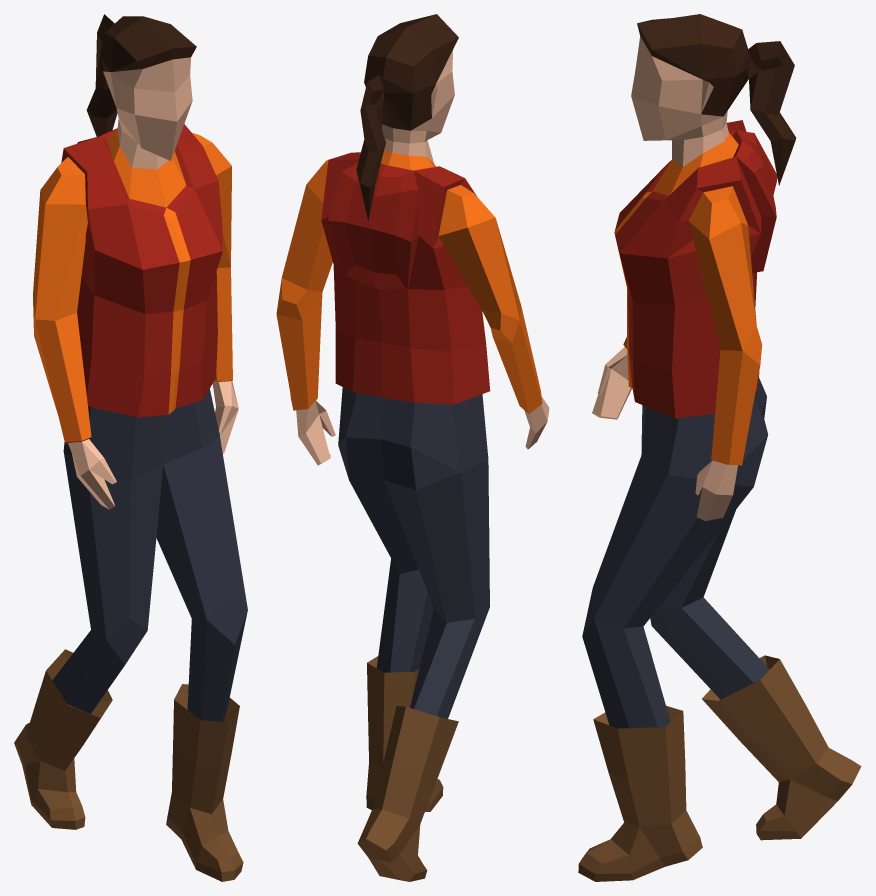
File: AutumnWomanA.003.glb
3 views of the same model, side by side, from view 1: azimuth 30°, elevation 25°; view 2: azimuth 150°, elevation 25°; view 3: azimuth 270°, elevation 25° (orthographic). The views are drawn at different scales.
Visible parts, largest first — view 1: AutumnWomanA.003; view 2: AutumnWomanA.003; view 3: AutumnWomanA.003.
Part boxes in pixels (x1,y1,x2,y2): AutumnWomanA.003: (14, 14, 247, 881); AutumnWomanA.003: (276, 14, 549, 881); AutumnWomanA.003: (578, 14, 861, 881).
Bounding box in the file's own units: 0.4672 × 1.69 × 0.5141.
1 material, 1 textured.
